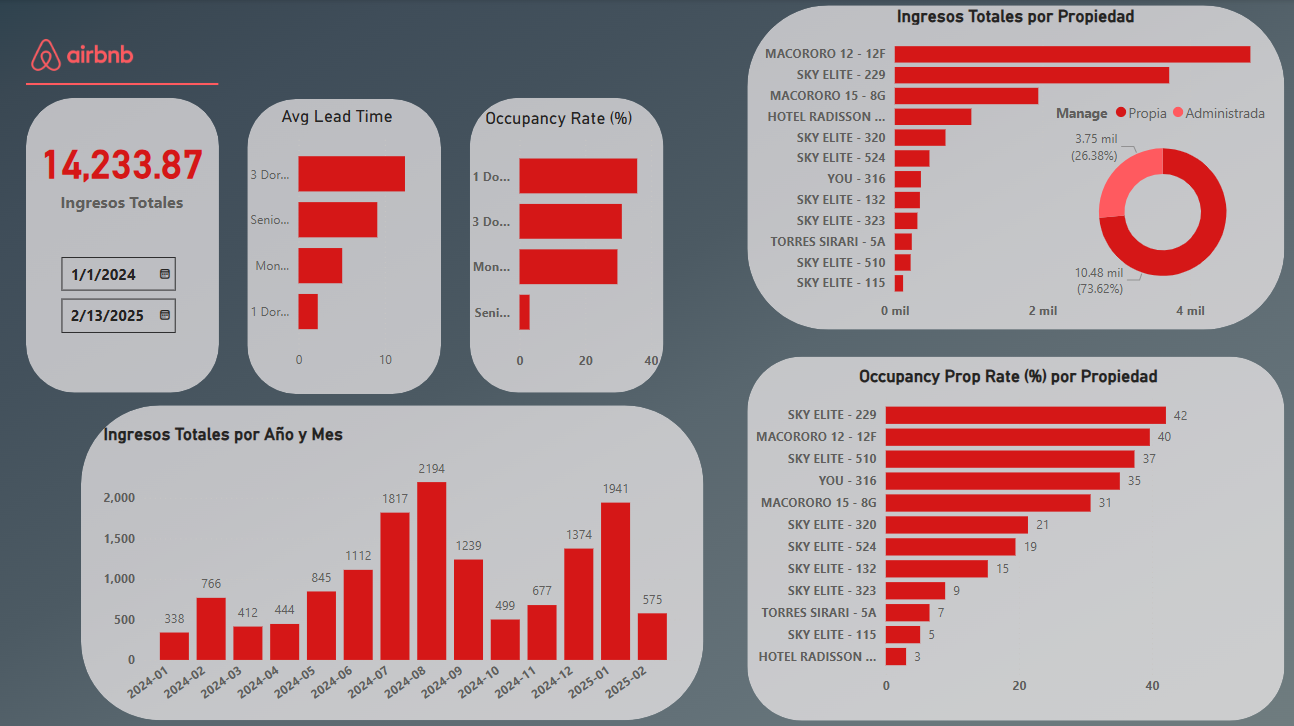

What the dashboard file says about the page in this screenshot:
{"tool":"powerbi","page":{"name":"General Anlysis","canvas":[1280,720],"ordinal":0},"visuals":[{"type":"image","box":[10,5,150,100],"z":0},{"type":"shape","box":[29.6,97.1,189.4,289.5],"z":1000},{"type":"shape","box":[29.4,68.7,189,29.4],"z":2000},{"type":"card","fields":{"Values":["Sum(cleaned_DataFrame.Ingresos Totales)"]},"box":[0,83.4,246.6,146],"z":3000},{"type":"slicer","fields":{"Values":["DateTable.Date"]},"box":[51.5,277.3,142.3,94.5],"z":4000},{"type":"shape","box":[83.4,398.8,611,309.2],"z":5000},{"type":"clusteredColumnChart","title":"Ingresos Totales por Año y Mes","fields":{"Category":["DateTable.YearMonth"],"Y":["Sum(cleaned_DataFrame.Ingresos Totales)"]},"box":[100.6,417.2,577.9,290.8],"z":6000},{"type":"shape","box":[737.4,350.6,527.3,357.6],"z":7000},{"type":"shape","box":[737.4,5.6,527.3,318.6],"z":8000},{"type":"clusteredBarChart","fields":{"Y":["Sum(cleaned_DataFrame.Ingresos Totales)"],"Category":["cleaned_DataFrame.Propiedad"]},"box":[737.4,5.6,527.3,318.6],"z":9000},{"type":"shape","box":[246.6,98.2,190.2,289.6],"z":10000},{"type":"clusteredBarChart","title":"Avg Lead Time","fields":{"Category":["occupancy_leading_by_property_type.Property Type"],"Y":["Avg(occupancy_leading_by_property_type.Avg Lead Time per Property Type)"]},"box":[233.7,104.3,203.1,268.5],"z":11000},{"type":"shape","box":[465,96.9,190.2,289.6],"z":12000},{"type":"clusteredBarChart","fields":{"Y":["MeasuresTable.Occupancy Prop Rate (%)"],"Category":["cleaned_DataFrame.Propiedad"]},"box":[727.6,359.5,532.5,332.5],"z":13000},{"type":"clusteredBarChart","title":"Occupancy Rate (%)","fields":{"Y":["MeasuresTable.Occupancy Type Rate (%)"],"Category":["cleaned_DataFrame.Property Type"]},"box":[449.1,106.7,206.1,266.3],"z":14000},{"type":"donutChart","fields":{"Y":["Sum(cleaned_DataFrame.Ingresos Totales)"],"Category":["cleaned_DataFrame.Management"]},"box":[1011,90.8,268.7,207.4],"z":15000},{"type":"card","fields":{"Values":["Sum(cleaned_BOB_df.Ingresos Totales BOB)"]},"box":[6.1,184.1,236.8,92],"z":15001}]}

Visuals, with their boxes in screenshot pixels (x1, y1, x2, y2), scaled from the page's 1280x720 canvas onto the 1294x726 screenshot:
image: bbox=(10, 5, 162, 106)
shape: bbox=(30, 98, 221, 390)
shape: bbox=(30, 69, 221, 99)
card - Sum(cleaned_DataFrame.Ingresos Totales): bbox=(0, 84, 249, 231)
slicer - DateTable.Date: bbox=(52, 280, 196, 375)
shape: bbox=(84, 402, 702, 714)
"Ingresos Totales por Año y Mes" clusteredColumnChart: bbox=(102, 421, 686, 714)
shape: bbox=(745, 354, 1279, 714)
shape: bbox=(745, 6, 1279, 327)
clusteredBarChart - Sum(cleaned_DataFrame.Ingresos Totales) x cleaned_DataFrame.Propiedad: bbox=(745, 6, 1279, 327)
shape: bbox=(249, 99, 442, 391)
"Avg Lead Time" clusteredBarChart: bbox=(236, 105, 442, 376)
shape: bbox=(470, 98, 662, 390)
clusteredBarChart - MeasuresTable.Occupancy Prop Rate (%) x cleaned_DataFrame.Propiedad: bbox=(736, 362, 1274, 698)
"Occupancy Rate (%)" clusteredBarChart: bbox=(454, 108, 662, 376)
donutChart - Sum(cleaned_DataFrame.Ingresos Totales) x cleaned_DataFrame.Management: bbox=(1022, 92, 1293, 301)
card - Sum(cleaned_BOB_df.Ingresos Totales BOB): bbox=(6, 186, 246, 278)
